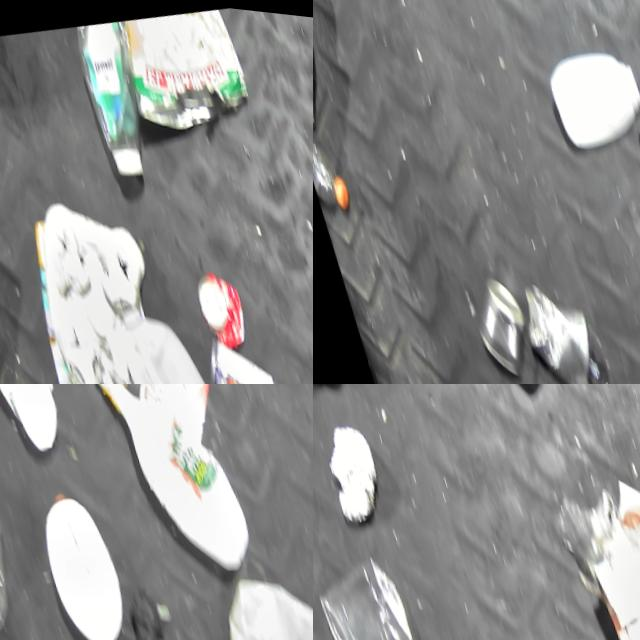can: (501, 262, 598, 384), (452, 262, 532, 381), (184, 313, 293, 384), (179, 254, 249, 350), (313, 0, 333, 134)
milk_jug: (100, 285, 254, 384), (197, 541, 313, 640)
plastic_bottle: (64, 9, 172, 182), (313, 100, 347, 218)
